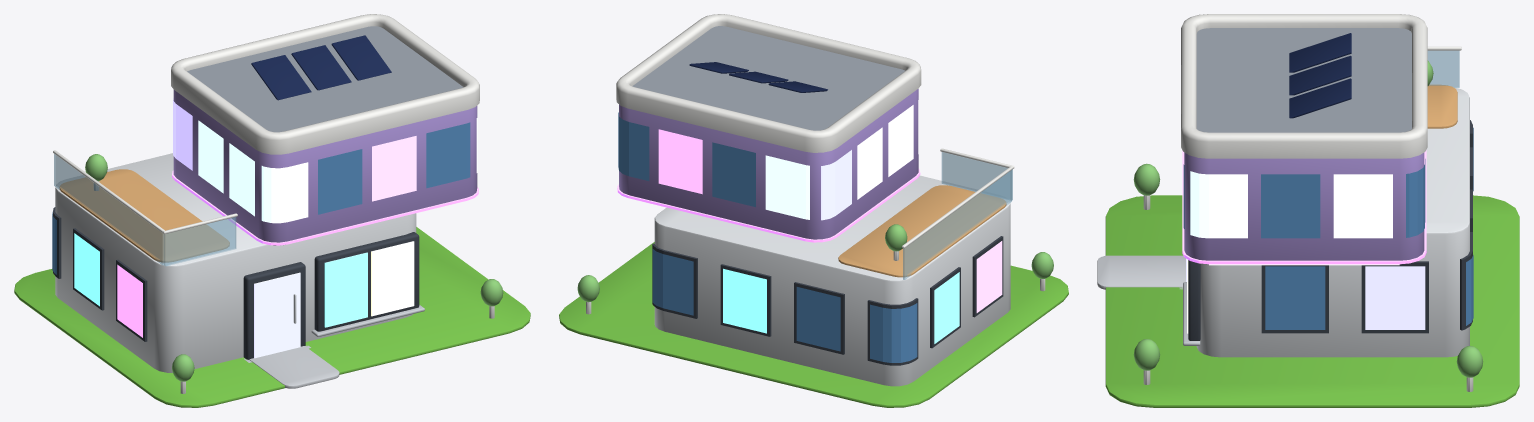
Rendered from casa_modular_cubos_lilas.glb.
3 renders of one model, left to right at view 1: azimuth 30°, elevation 25°; view 2: azimuth 150°, elevation 25°; view 3: azimuth 270°, elevation 25°, orthographic. The views are drawn at different scales.
Parts seen in each view (by area): view 1: casa_modular_cubos_lilas; view 2: casa_modular_cubos_lilas; view 3: casa_modular_cubos_lilas.
Boxes of the visible parts, x1,y1,x2,y2 form: casa_modular_cubos_lilas: (14, 14, 530, 407); casa_modular_cubos_lilas: (559, 14, 1068, 407); casa_modular_cubos_lilas: (1097, 14, 1519, 407).
Bounding box in the file's own units: 12 × 7.16 × 10.2.
Materials: 11 (1 with a texture image).
